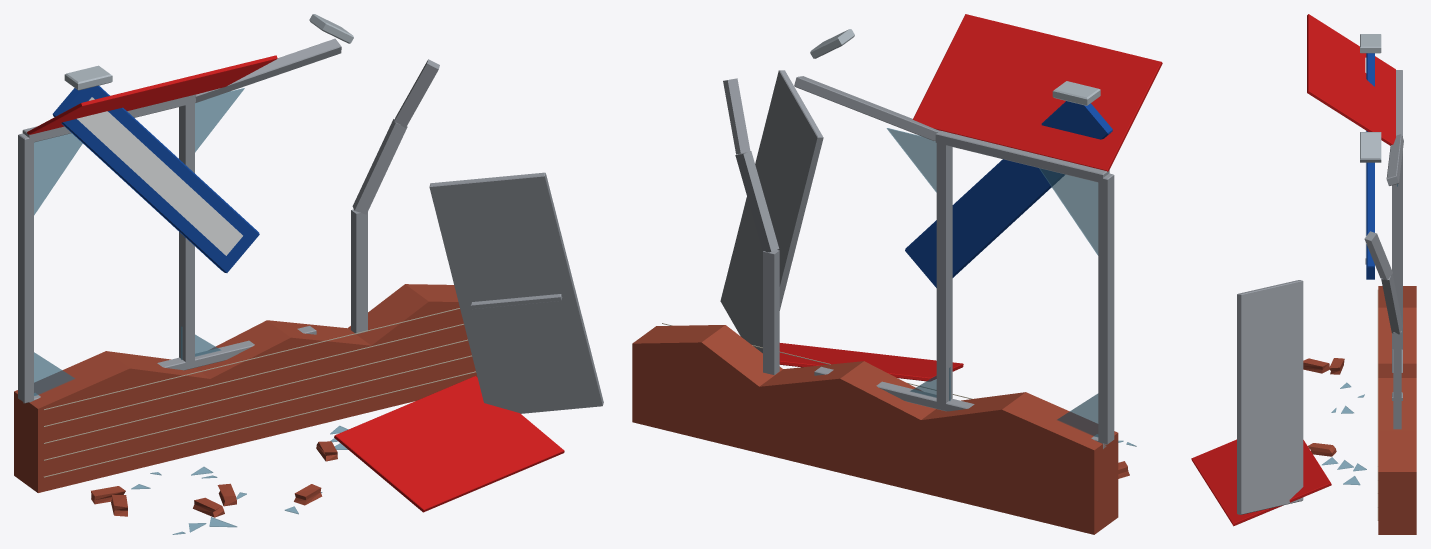
Rendered from DESTROY_08.obj.
3 views of the same model, side by side, from view 1: azimuth 30°, elevation 25°; view 2: azimuth 150°, elevation 25°; view 3: azimuth 270°, elevation 25° (orthographic). The views are drawn at different scales.
Visible parts, largest first — view 1: DESTROY_08__bulkhead, DESTROY_08__door_frame, DESTROY_08__awning_fallen, DESTROY_08__frame_post, DESTROY_08__sign_board, DESTROY_08__sign_text_panel, DESTROY_08__frame_post_bent, DESTROY_08__glass_remnant, DESTROY_08__awning_attached, DESTROY_08__bulkhead_courses, DESTROY_08__debris, DESTROY_08__transom_twisted (+5 smaller); view 2: DESTROY_08__bulkhead, DESTROY_08__awning_attached, DESTROY_08__door_frame, DESTROY_08__frame_post, DESTROY_08__sign_board, DESTROY_08__glass_remnant, DESTROY_08__frame_post_bent, DESTROY_08__awning_fallen, DESTROY_08__transom, DESTROY_08__transom_twisted, DESTROY_08__sill_rail, DESTROY_08__sign_bracket; view 3: DESTROY_08__door_frame, DESTROY_08__bulkhead, DESTROY_08__awning_attached, DESTROY_08__awning_fallen, DESTROY_08__frame_post_bent, DESTROY_08__frame_post, DESTROY_08__sign_board, DESTROY_08__debris, DESTROY_08__sign_bracket_snapped, DESTROY_08__transom_twisted, DESTROY_08__glass_fallen, DESTROY_08__bulkhead_courses (+2 smaller).
Part boxes in pixels (bbox=[...]): DESTROY_08__bulkhead: bbox=[14, 284, 477, 492]; DESTROY_08__door_frame: bbox=[429, 172, 603, 413]; DESTROY_08__awning_fallen: bbox=[334, 376, 564, 512]; DESTROY_08__frame_post: bbox=[18, 98, 194, 403]; DESTROY_08__sign_board: bbox=[52, 85, 259, 272]; DESTROY_08__sign_text_panel: bbox=[77, 97, 242, 255]; DESTROY_08__frame_post_bent: bbox=[351, 59, 439, 334]; DESTROY_08__glass_remnant: bbox=[34, 88, 244, 395]; DESTROY_08__awning_attached: bbox=[27, 55, 277, 134]; DESTROY_08__bulkhead_courses: bbox=[43, 308, 475, 477]; DESTROY_08__debris: bbox=[91, 441, 337, 517]; DESTROY_08__transom_twisted: bbox=[195, 38, 341, 102]; DESTROY_08__bulkhead: bbox=[632, 325, 1118, 534]; DESTROY_08__awning_attached: bbox=[913, 14, 1162, 171]; DESTROY_08__door_frame: bbox=[720, 70, 823, 353]; DESTROY_08__frame_post: bbox=[936, 138, 1114, 444]; DESTROY_08__sign_board: bbox=[905, 101, 1112, 287]; DESTROY_08__glass_remnant: bbox=[886, 128, 1098, 437]; DESTROY_08__frame_post_bent: bbox=[723, 78, 779, 375]; DESTROY_08__awning_fallen: bbox=[779, 343, 963, 381]; DESTROY_08__transom: bbox=[935, 130, 1109, 182]; DESTROY_08__transom_twisted: bbox=[794, 76, 939, 140]; DESTROY_08__sill_rail: bbox=[814, 366, 1106, 448]; DESTROY_08__sign_bracket: bbox=[1052, 81, 1100, 105]; DESTROY_08__door_frame: bbox=[1237, 280, 1303, 514]; DESTROY_08__bulkhead: bbox=[1378, 286, 1416, 534]; DESTROY_08__awning_attached: bbox=[1307, 14, 1395, 145]; DESTROY_08__awning_fallen: bbox=[1191, 439, 1331, 526]; DESTROY_08__frame_post_bent: bbox=[1364, 231, 1402, 429]; DESTROY_08__frame_post: bbox=[1392, 151, 1402, 349]; DESTROY_08__sign_board: bbox=[1366, 53, 1374, 279]; DESTROY_08__debris: bbox=[1303, 358, 1344, 456]; DESTROY_08__sign_bracket_snapped: bbox=[1360, 132, 1381, 162]; DESTROY_08__transom_twisted: bbox=[1386, 134, 1403, 185]; DESTROY_08__glass_fallen: bbox=[1322, 382, 1366, 485]; DESTROY_08__bulkhead_courses: bbox=[1377, 290, 1378, 520].
Bounding box in the file's own units: 4.22 × 3.51 × 2.11.
